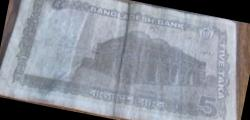5 taka: (25, 1, 219, 116)
